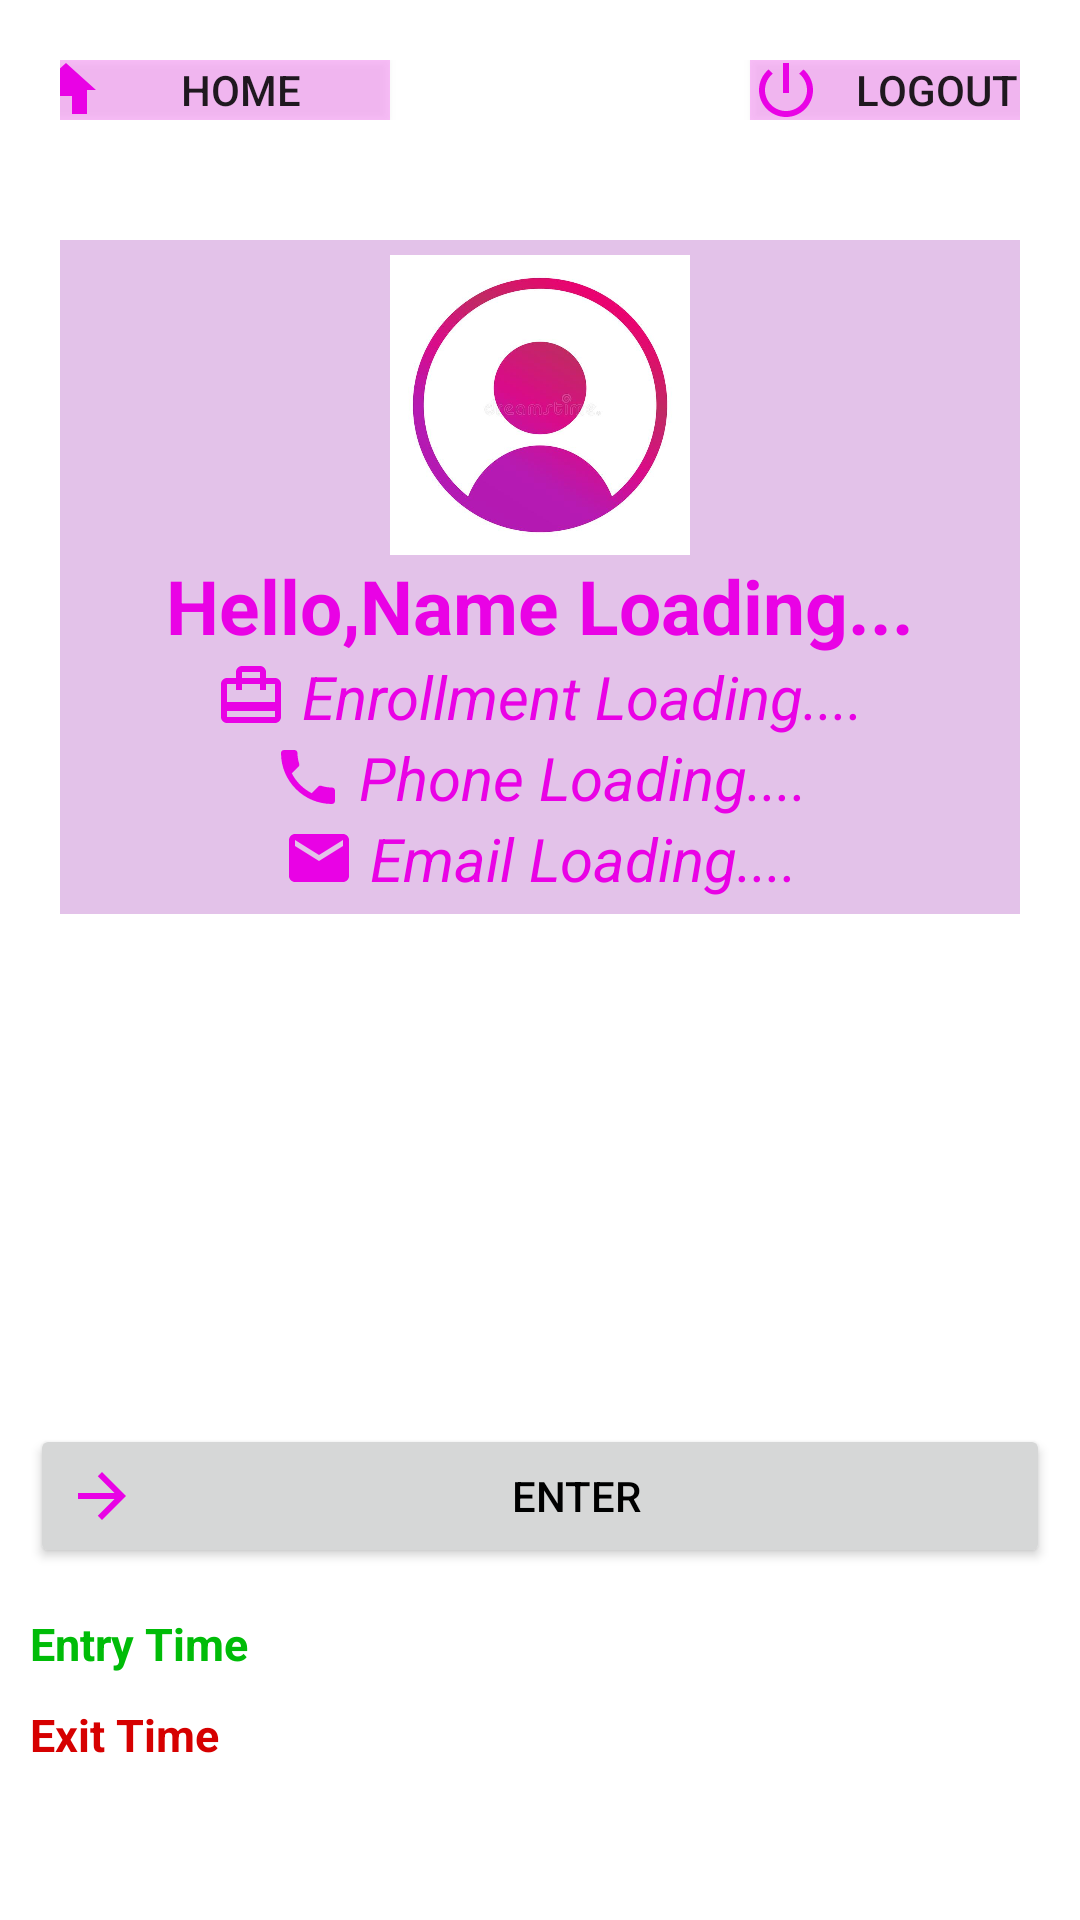

Icons on this 1080x1920 Android screen, each with its box as [x1,y1,x2,y2]:
profile: [390,255,690,555]
